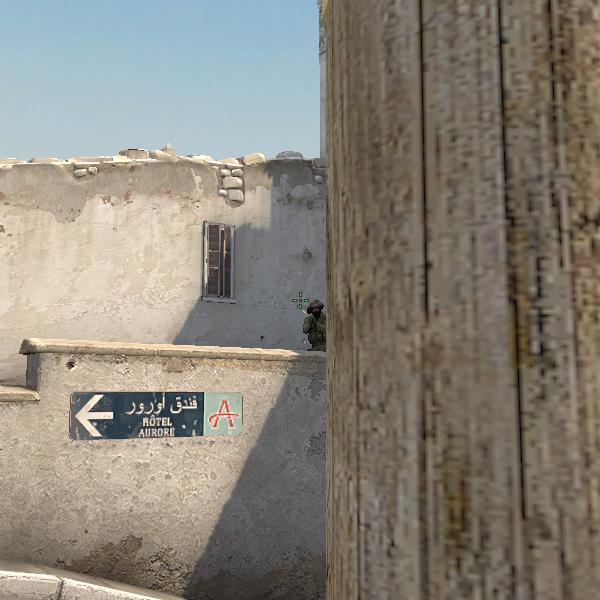ct_body: (294, 302, 330, 349)
ct_head: (306, 302, 326, 322)
